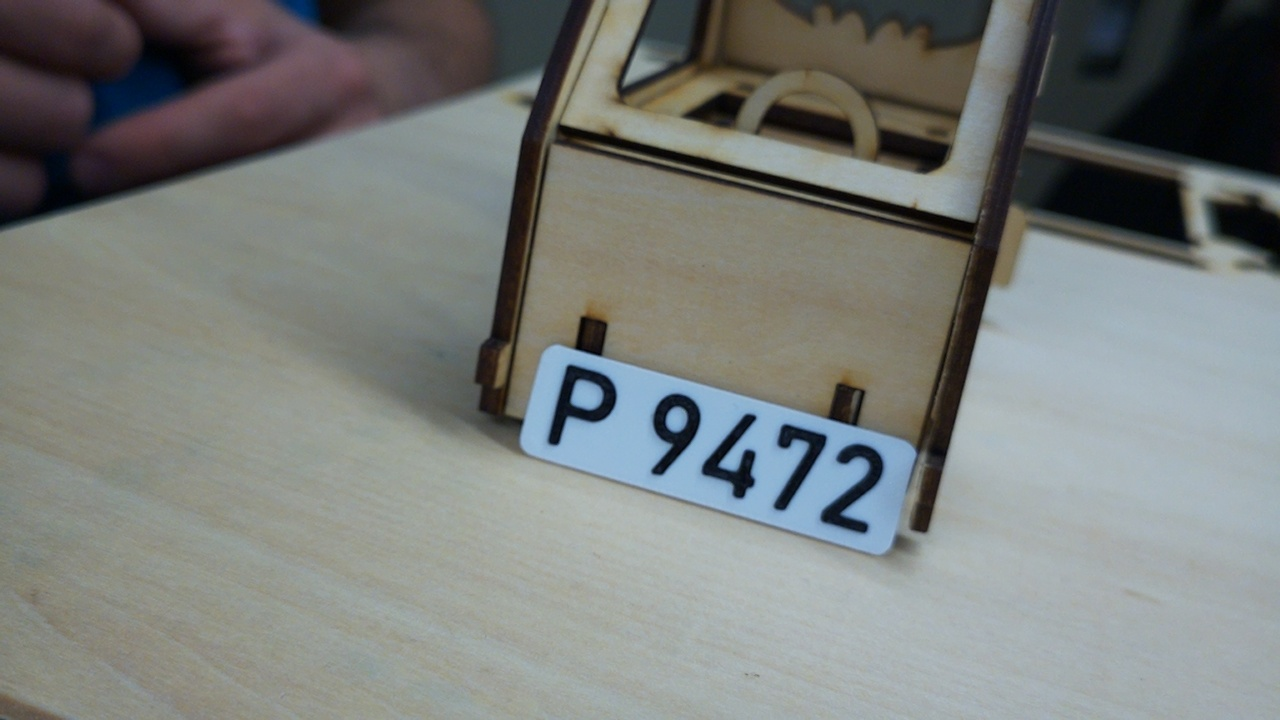license_plate: (517, 341, 919, 559)
